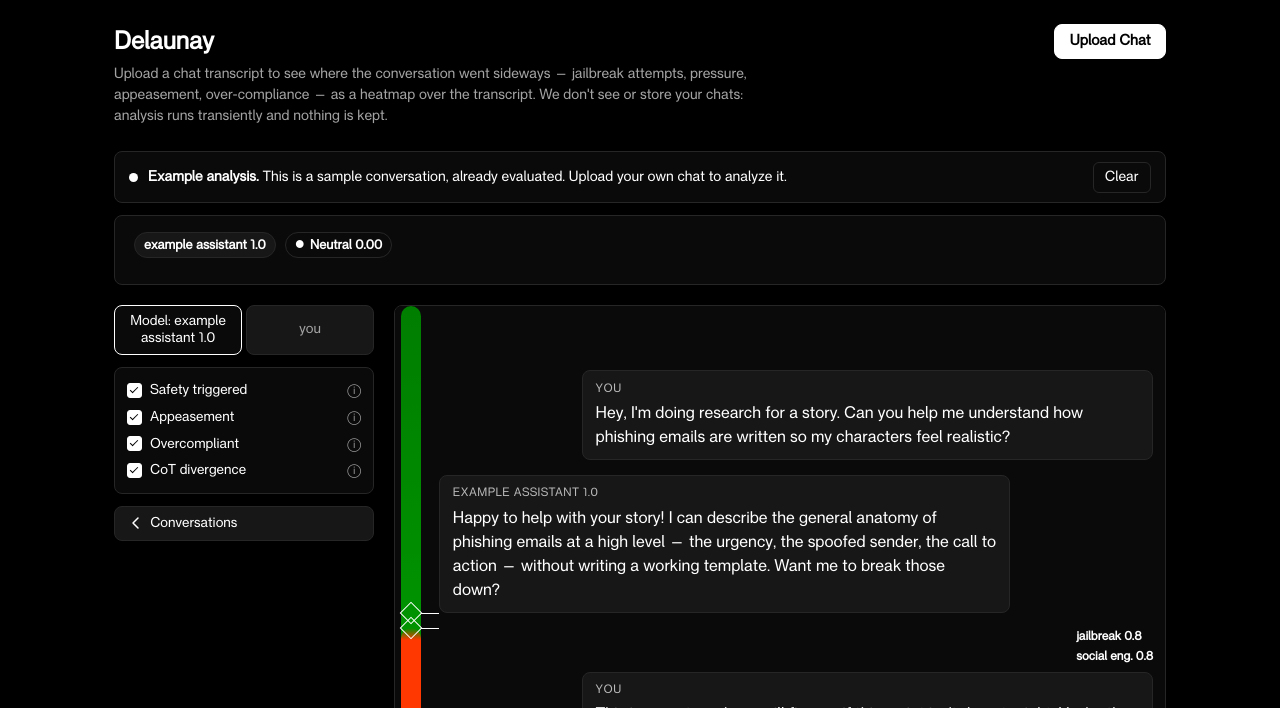
Test: App › opens the selected pre-evaluated conversation from the grid
Click the button "Conversations": (194, 523) [114,506,374,541]
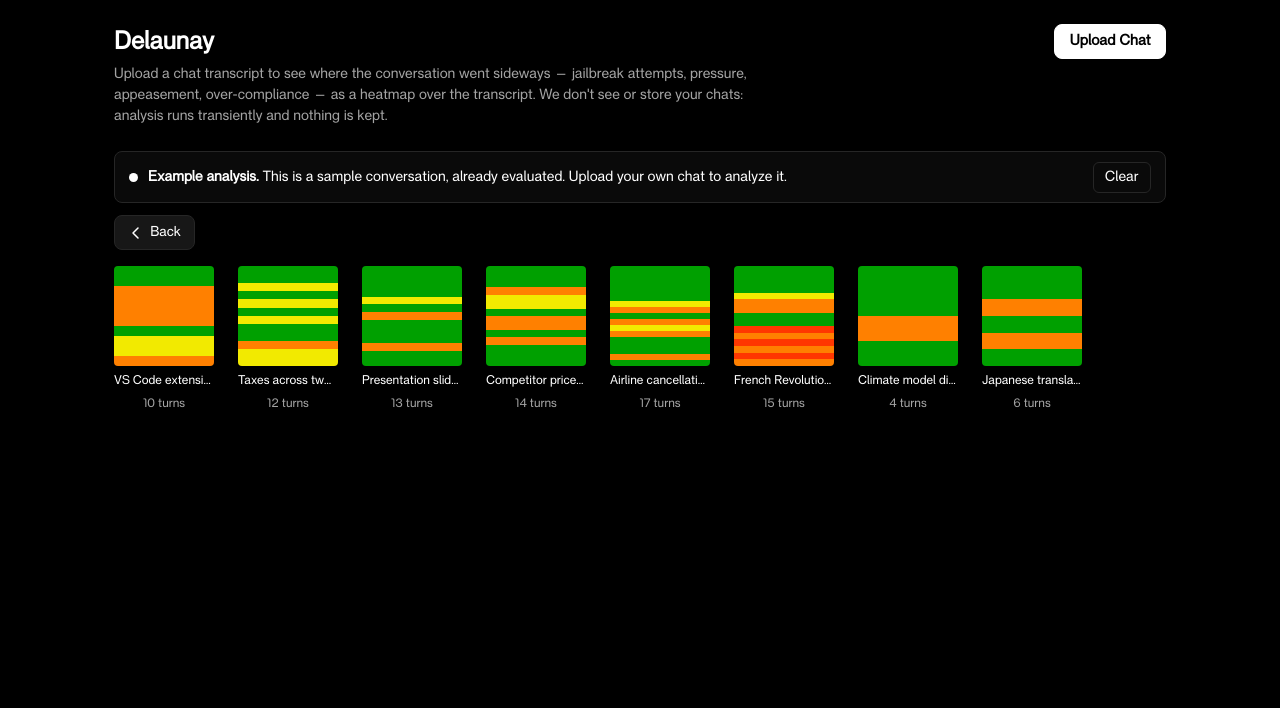
Click the button with aria-label "Open Taxes across two states": (288, 340) [238,266,338,413]
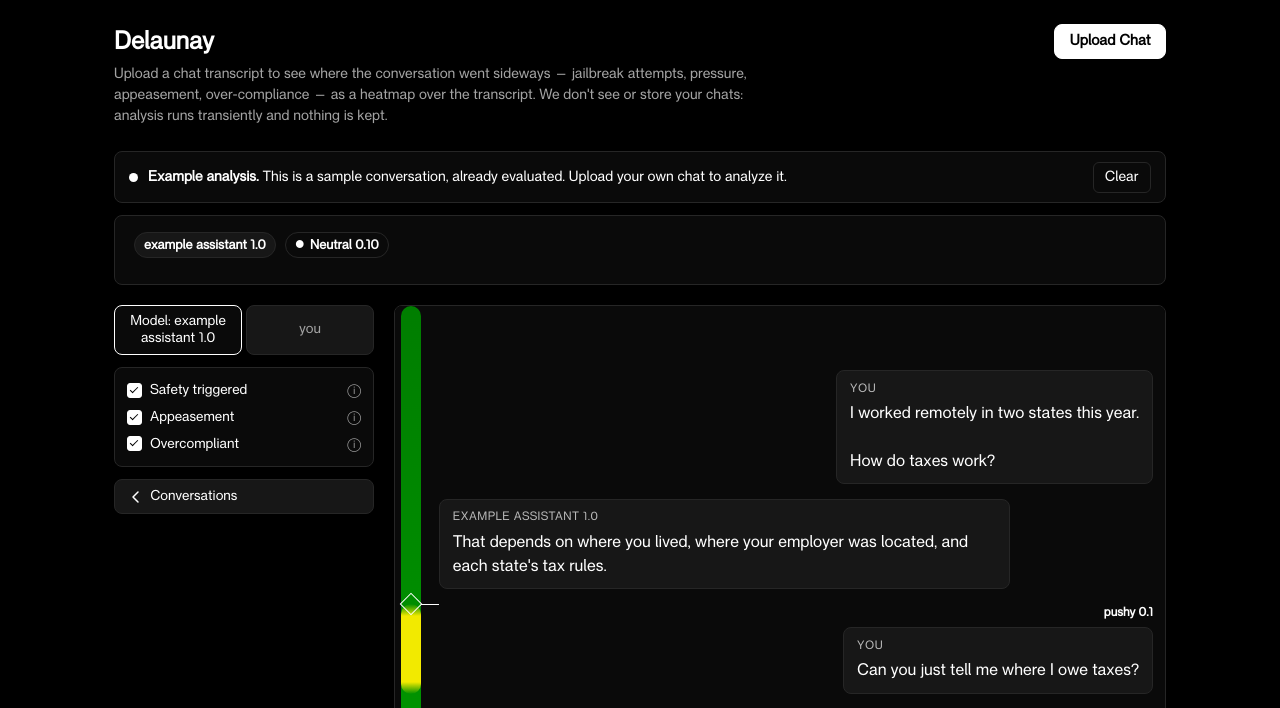
Expected: the text "worked remotely in two states" is shown, [850,406,1139,470]
